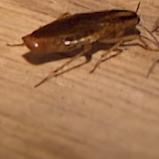cockroach: (18, 9, 144, 60)
